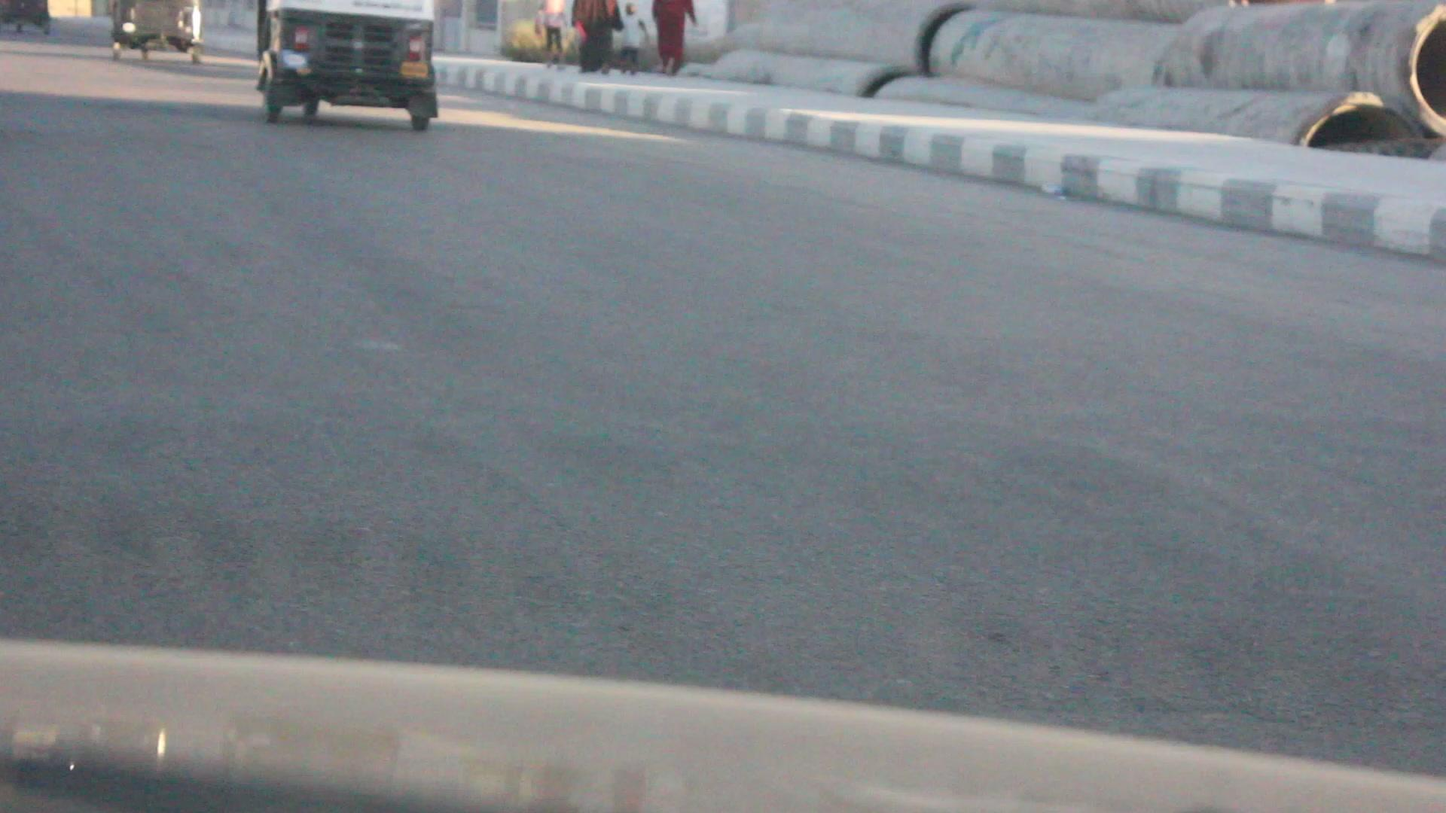Bump: (17, 427, 1446, 755)
